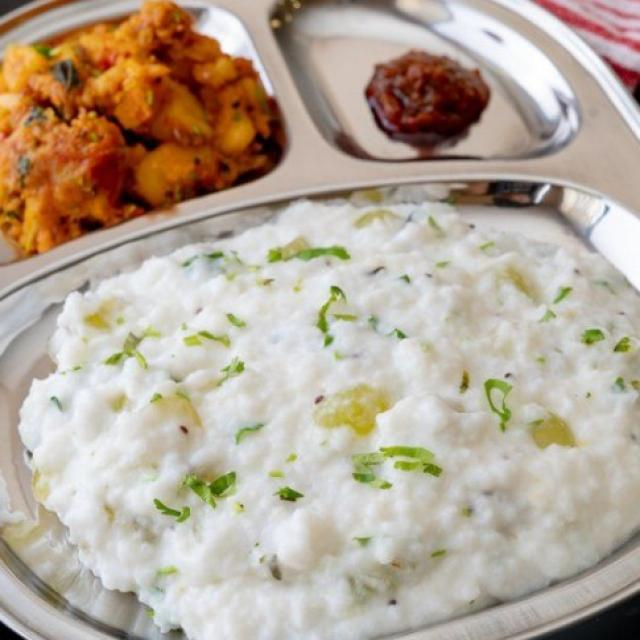CURD RICE: (16, 197, 639, 639)
CURRY: (0, 0, 276, 260)
PICKLE: (365, 44, 492, 141)
